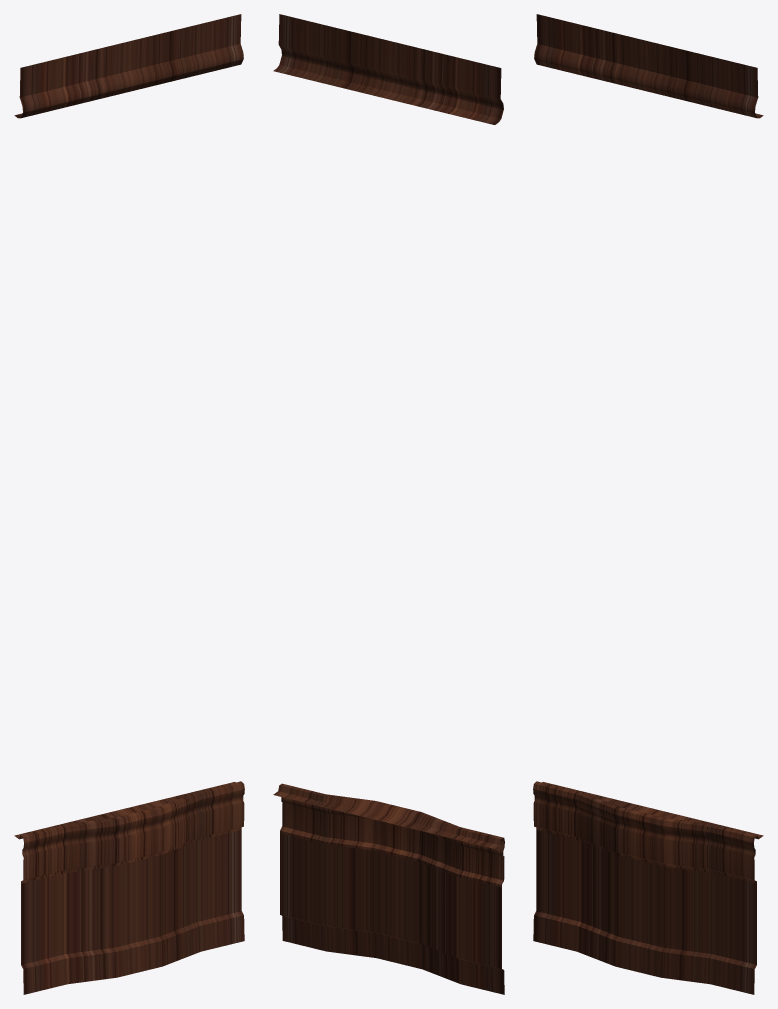
Rendered from Wallbar_Ston_01.fbx.
3 renders of one model, left to right at view 1: azimuth 30°, elevation 25°; view 2: azimuth 150°, elevation 25°; view 3: azimuth 330°, elevation 25°, orthographic.
Visible parts, largest first — view 1: SM_Wallbar_Ston_01; view 2: SM_Wallbar_Ston_01; view 3: SM_Wallbar_Ston_01.
Part boxes in pixels (x1=…): SM_Wallbar_Ston_01: x1=14, y1=14, x2=244, y2=994; SM_Wallbar_Ston_01: x1=273, y1=14, x2=504, y2=994; SM_Wallbar_Ston_01: x1=533, y1=14, x2=763, y2=994.
Size of the model in its own units: 100 by 400 by 12.2.
